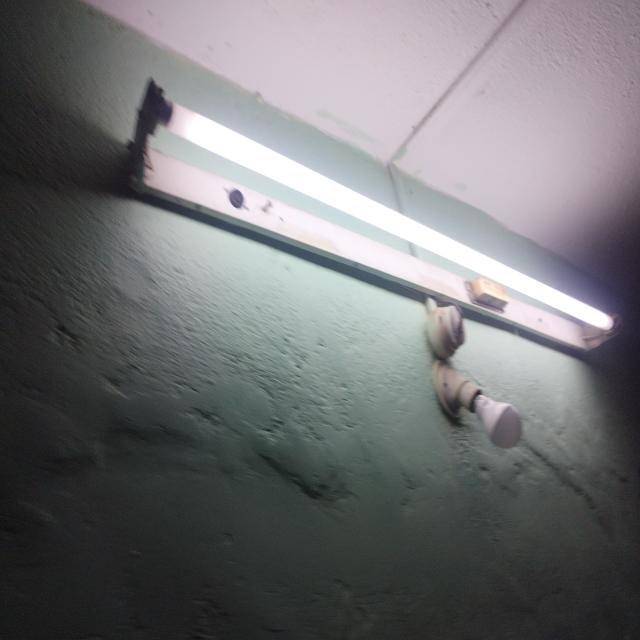tubelight_on: (136, 79, 613, 352)
